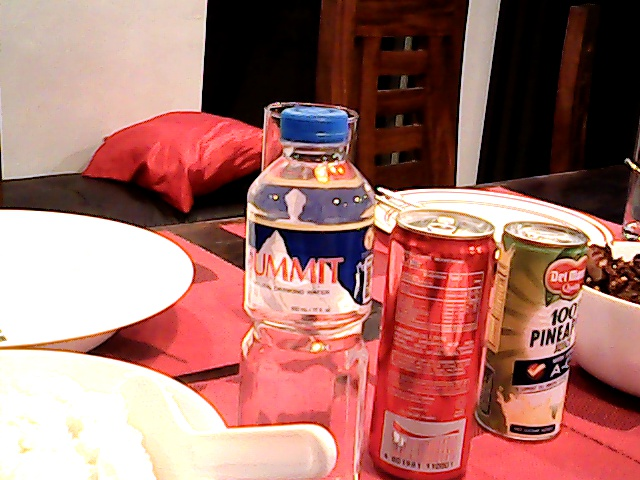Cola: (377, 208, 482, 475)
Pine Juice: (483, 213, 582, 434)
Summit Water: (248, 109, 373, 462)
